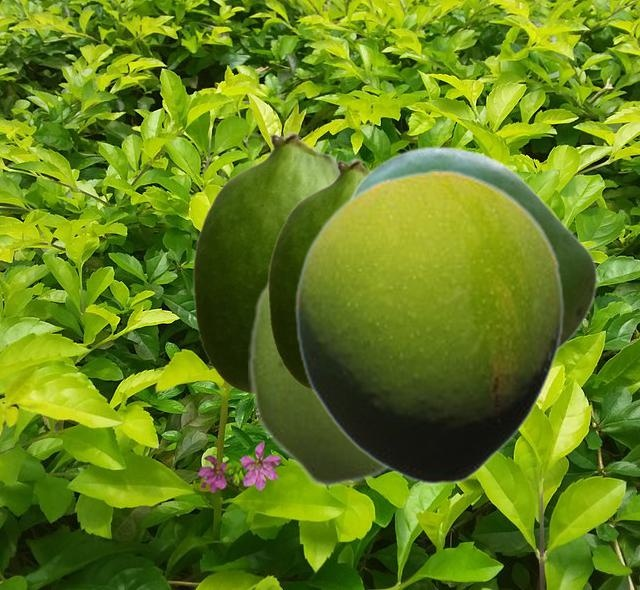green_mango: (294, 169, 564, 485), (348, 145, 597, 349), (192, 130, 337, 393), (248, 277, 389, 488), (267, 157, 370, 391)
